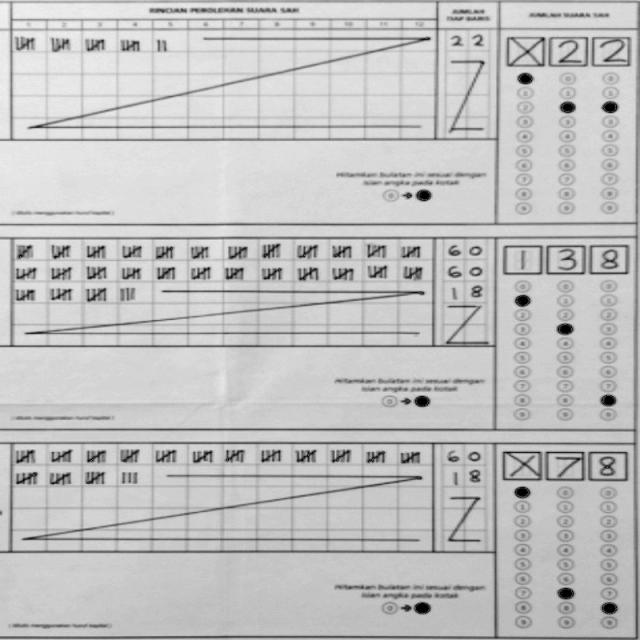Suara: (499, 442, 629, 483), (500, 237, 628, 277), (501, 30, 634, 66)
